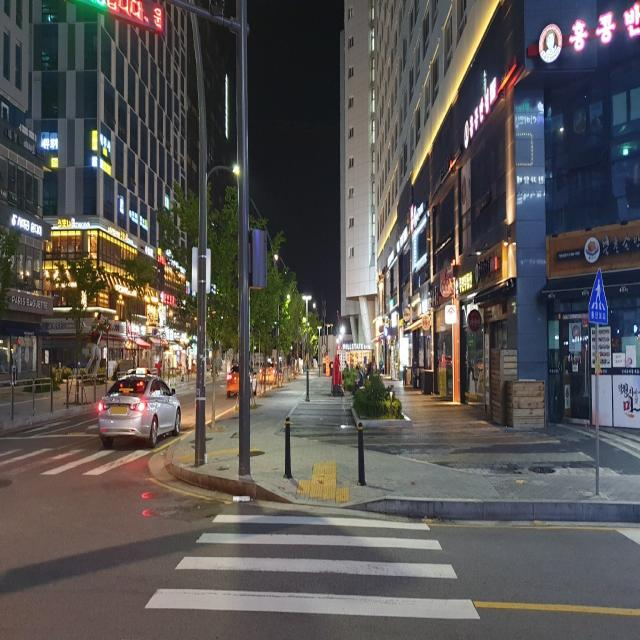횡단보도: (143, 510, 482, 622), (0, 430, 157, 489)
